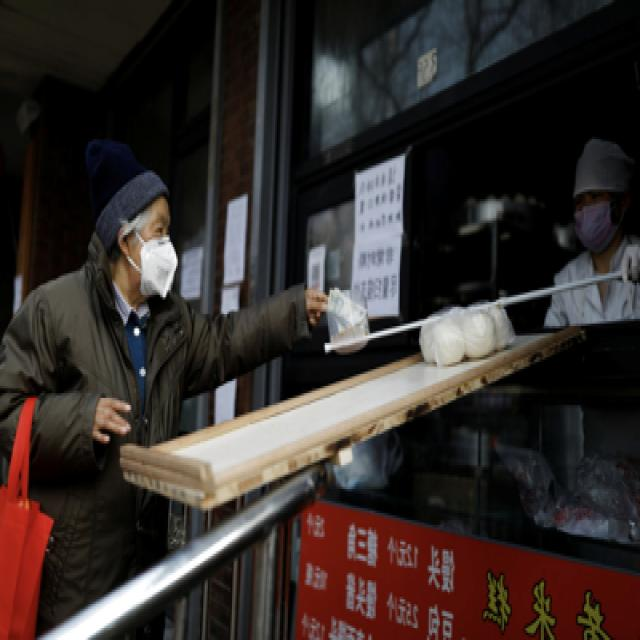mask: (134, 208, 180, 302), (574, 187, 618, 249)
